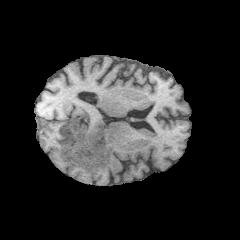glioma: (57, 120, 115, 173)
